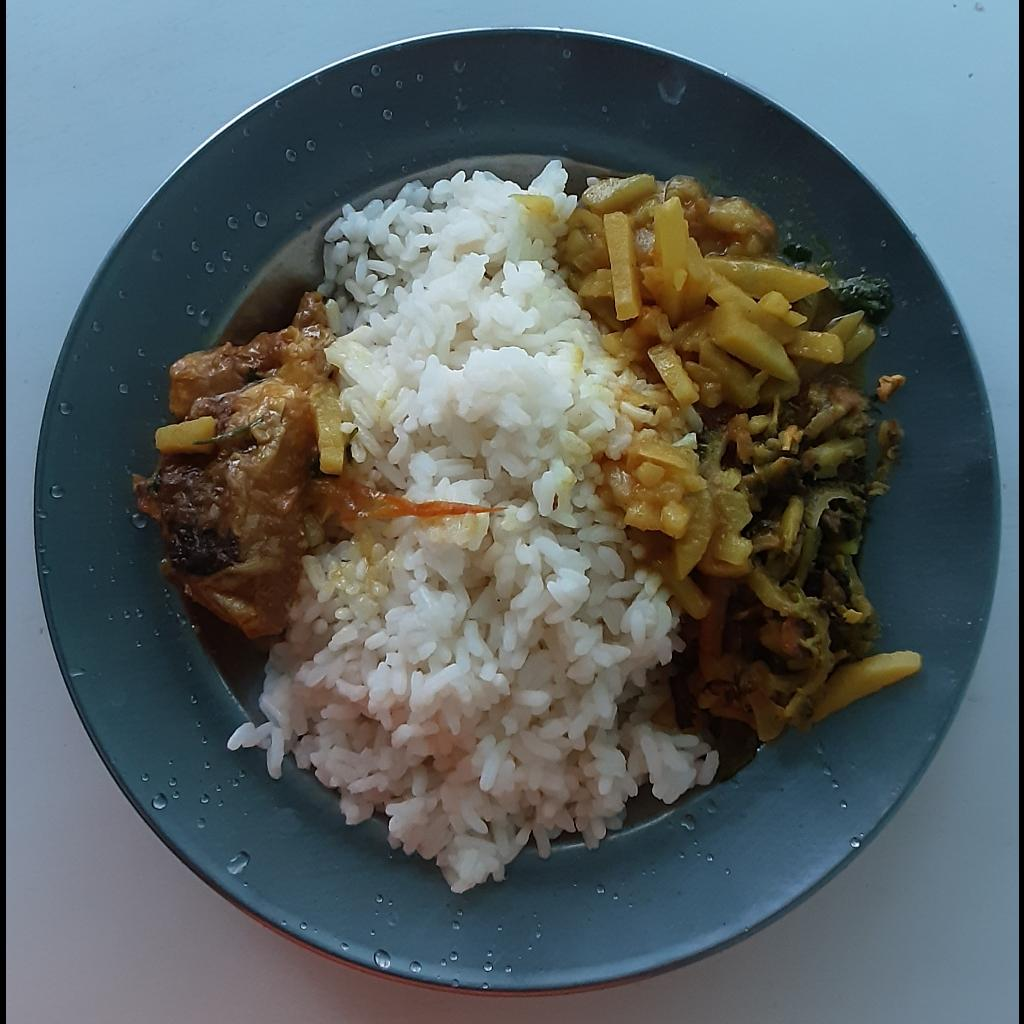fish: (134, 286, 321, 638)
korola-vaji: (671, 377, 874, 767)
potato: (563, 175, 871, 623)
rice: (225, 161, 721, 891)
